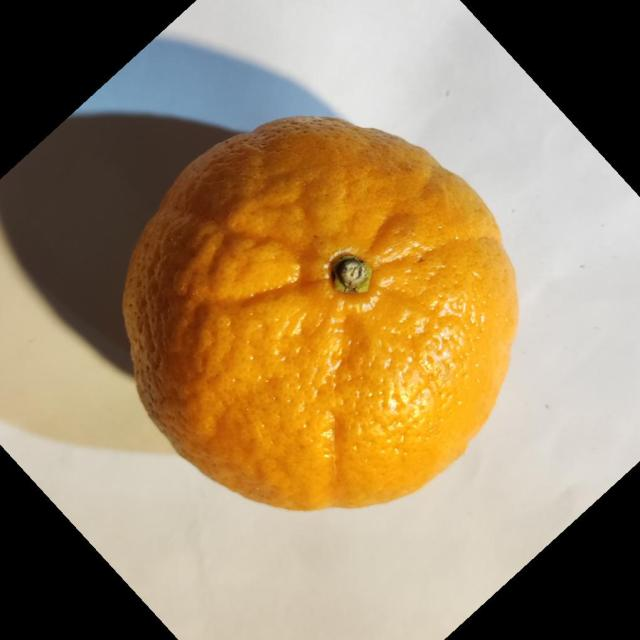fresh orange: (121, 114, 520, 512)
